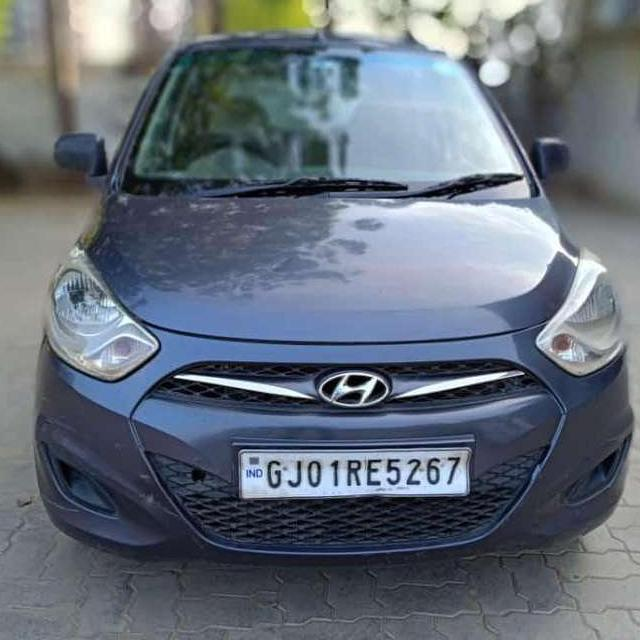Indian_Number_Plate: (239, 445, 472, 499)
